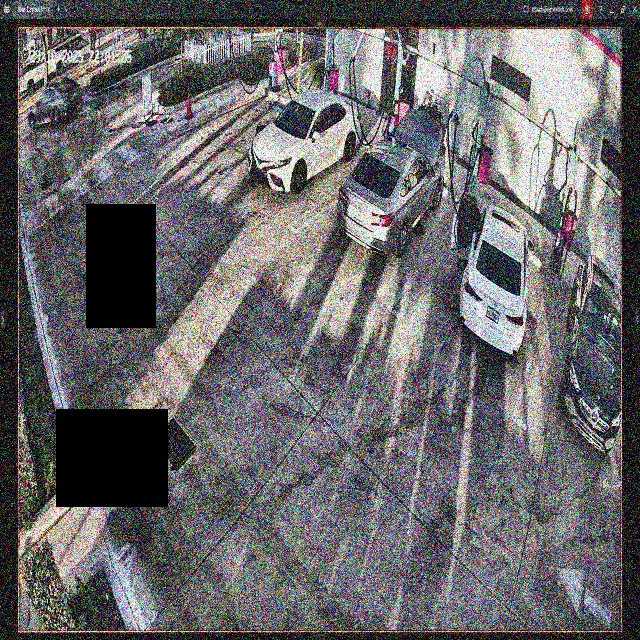Car: (325, 108, 445, 253), (447, 195, 532, 360), (249, 89, 361, 192)
